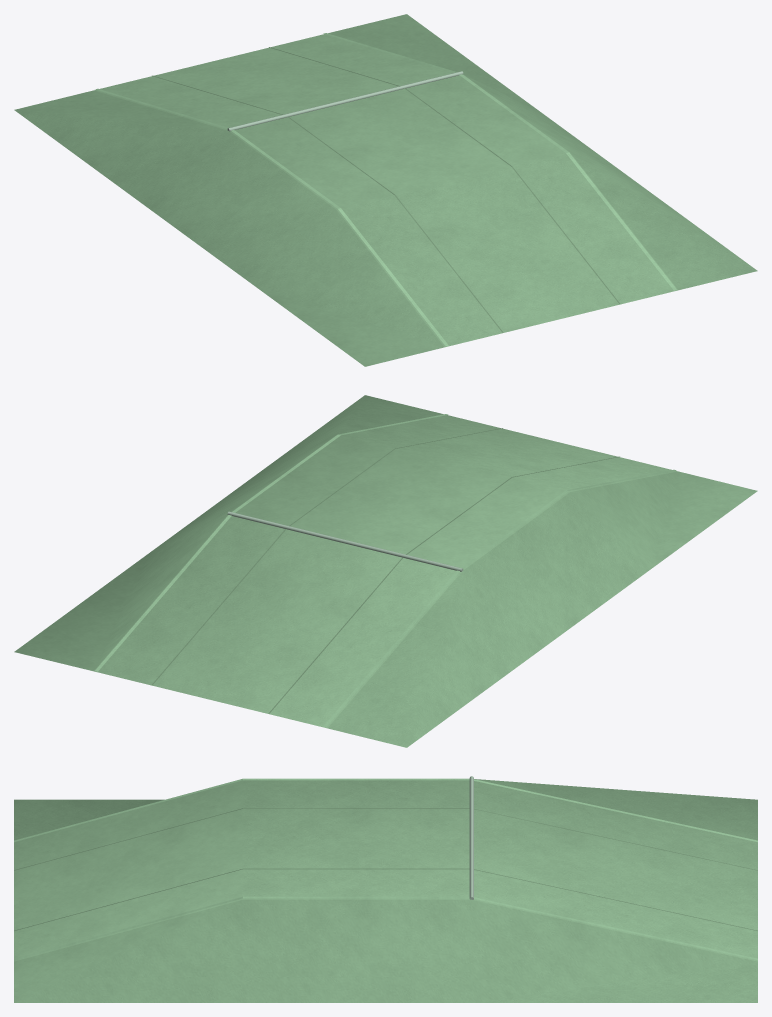
Rendered from harbour-bank.glb.
3 views of the same model, one above another, from view 1: azimuth 30°, elevation 25°; view 2: azimuth 150°, elevation 25°; view 3: azimuth 270°, elevation 25° (orthographic). The views are drawn at different scales.
Visible parts, largest first — view 1: harbour-bank; view 2: harbour-bank; view 3: harbour-bank.
Boxes of the visible parts, <box> form: harbour-bank: <box>14,14,757,366</box>; harbour-bank: <box>14,395,757,747</box>; harbour-bank: <box>14,776,757,1002</box>.
Bounding box in the file's own units: 8.4 × 1.25 × 13.
Materials: 2 (1 with a texture image).
